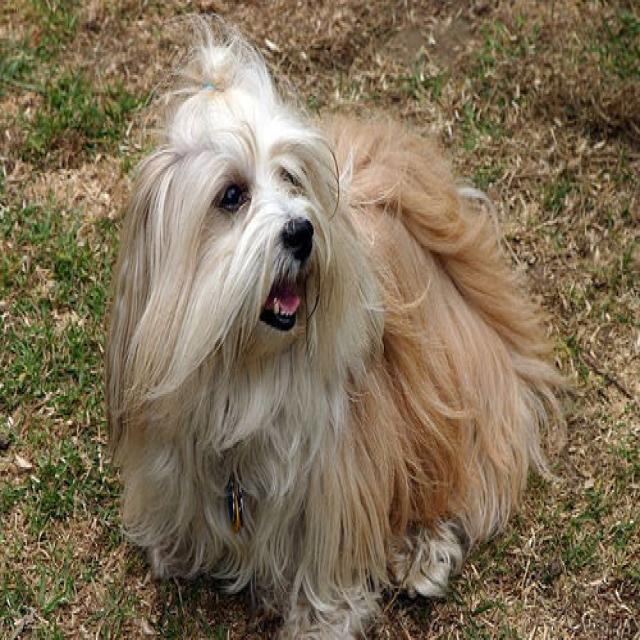dog-havanese: (97, 2, 590, 636)
